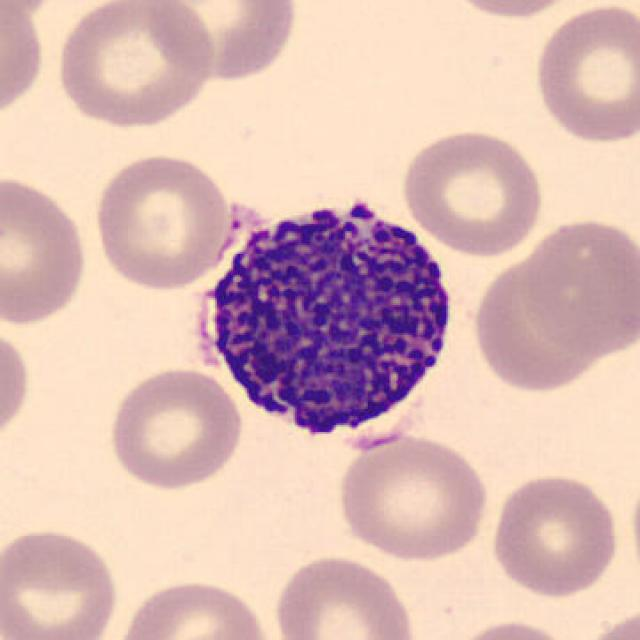Basophil: (178, 182, 468, 456)
RBC: (51, 0, 218, 130), (332, 430, 490, 562), (91, 150, 233, 293), (397, 125, 548, 258), (485, 467, 624, 601), (105, 363, 247, 494), (518, 213, 638, 358), (481, 255, 608, 389), (529, 0, 638, 146), (0, 171, 92, 328), (0, 523, 122, 640), (268, 550, 422, 640), (144, 0, 300, 85), (110, 575, 276, 640), (0, 2, 48, 125), (0, 321, 34, 451), (437, 0, 585, 21), (446, 617, 576, 640), (579, 603, 640, 640), (627, 462, 640, 596), (0, 0, 66, 23)
